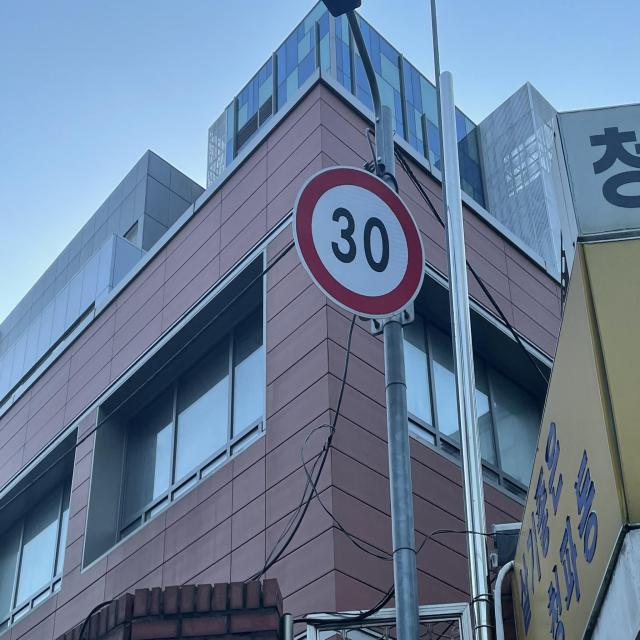speed_limit_30: (294, 167, 423, 319)
